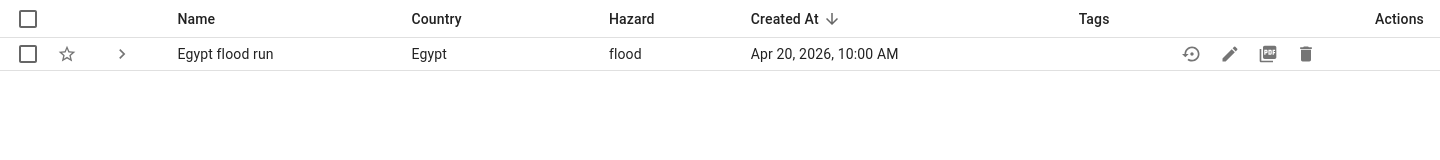
Test: ScenarioTable inline action icons (#393) › puts the name cell into editing mode when the Rename icon is clicked
The width and height of the screenshot is (1440, 160).
Click the button named "rename-scn-1": x=1230, y=54 [1215,39,1245,69]
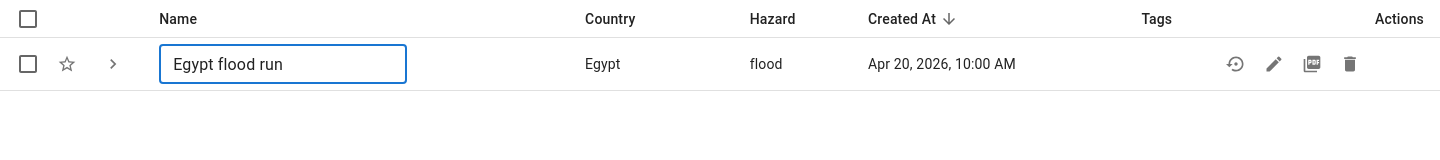
Expected: the field named "rename-input-scn-1" is shown, [159,44,407,84]
